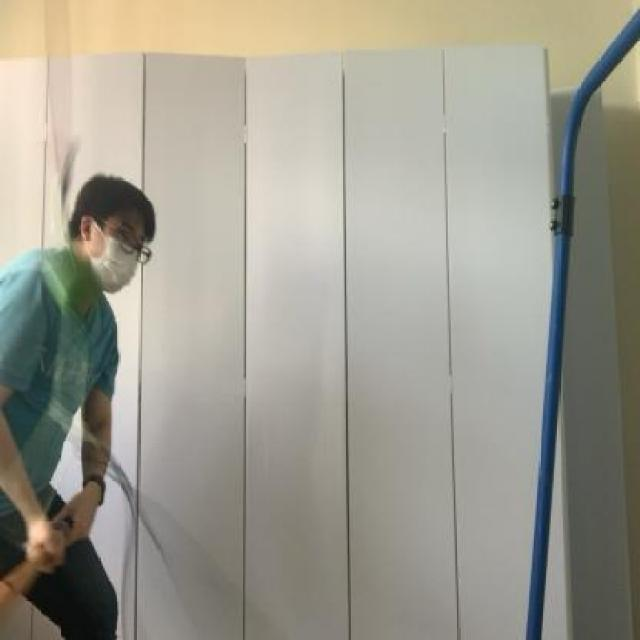baseball: (39, 210, 92, 318)
